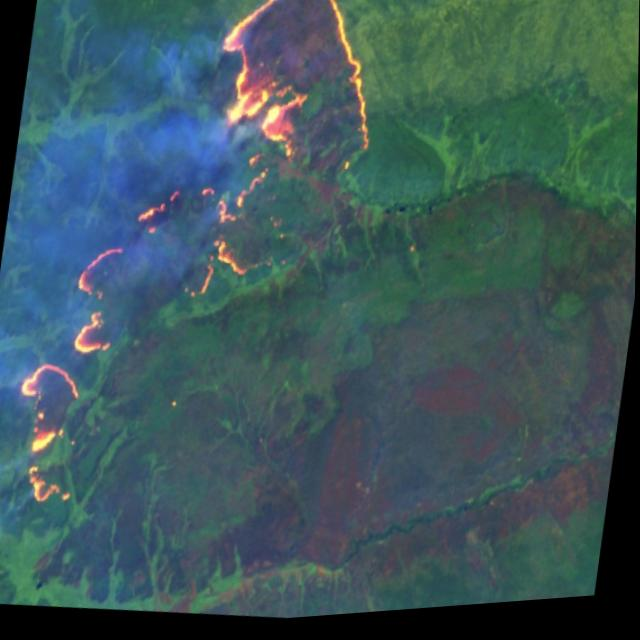fire: (1, 0, 396, 547)
